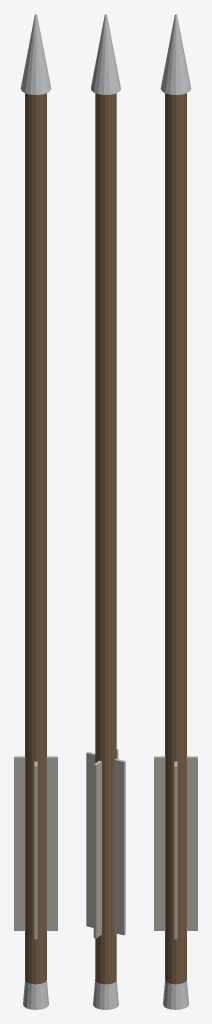
The model's file is SM_Crossbow_Bolt01.fbx.
3 renders of one model, left to right at view 1: azimuth 90°, elevation 25°; view 2: azimuth 150°, elevation 25°; view 3: azimuth 270°, elevation 25°, orthographic.
Parts seen in each view (by area): view 1: SM_Crossbow_Bolt01; view 2: SM_Crossbow_Bolt01; view 3: SM_Crossbow_Bolt01.
Part boxes in pixels (left/top/right/bottom): SM_Crossbow_Bolt01: left=14, top=14, right=57, bottom=1009; SM_Crossbow_Bolt01: left=86, top=14, right=125, bottom=1009; SM_Crossbow_Bolt01: left=154, top=14, right=197, bottom=1009.
Size of the model in its own units: 0.016 by 0.016 by 0.4.
